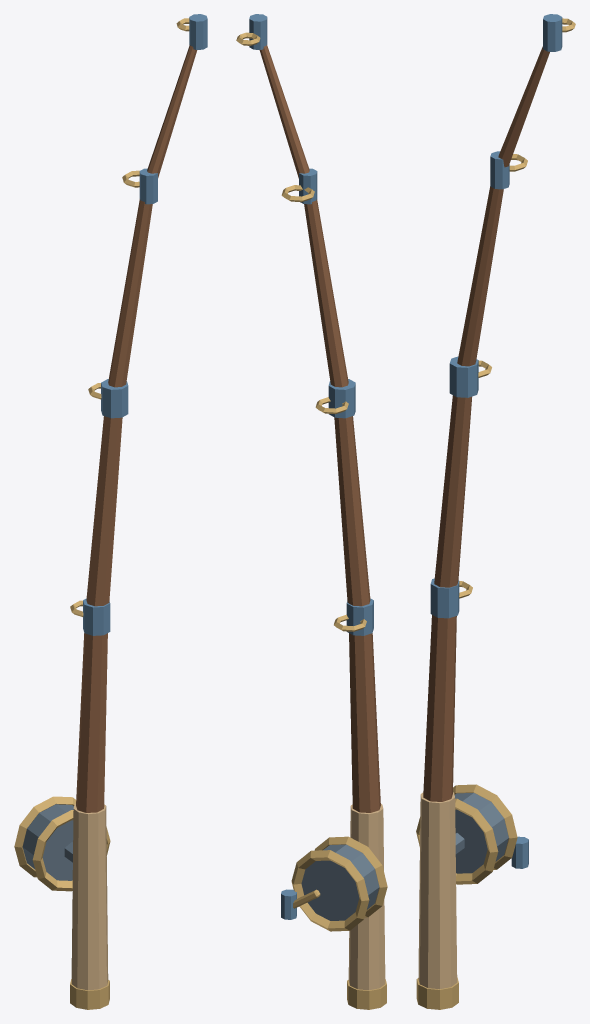
The model's file is courier_fishing_rod.glb.
3 renders of one model, left to right at view 1: azimuth 30°, elevation 25°; view 2: azimuth 150°, elevation 25°; view 3: azimuth 330°, elevation 25°, orthographic. The views are drawn at different scales.
Parts seen in each view (by area): view 1: courier_fishing_rod_Geometry; view 2: courier_fishing_rod_Geometry; view 3: courier_fishing_rod_Geometry.
Part boxes in pixels (bbox=[...]): courier_fishing_rod_Geometry: bbox=[14, 14, 207, 1009]; courier_fishing_rod_Geometry: bbox=[236, 14, 387, 1009]; courier_fishing_rod_Geometry: bbox=[416, 14, 575, 1009].
Bounding box in the file's own units: 0.35 × 2.02 × 0.215.
